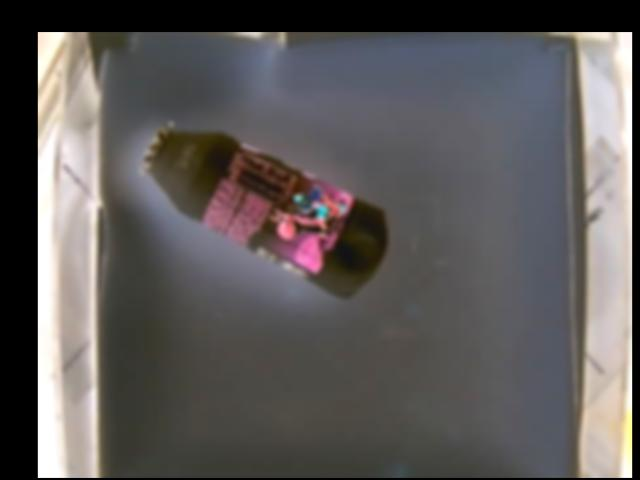Bottle: (137, 120, 388, 300)
